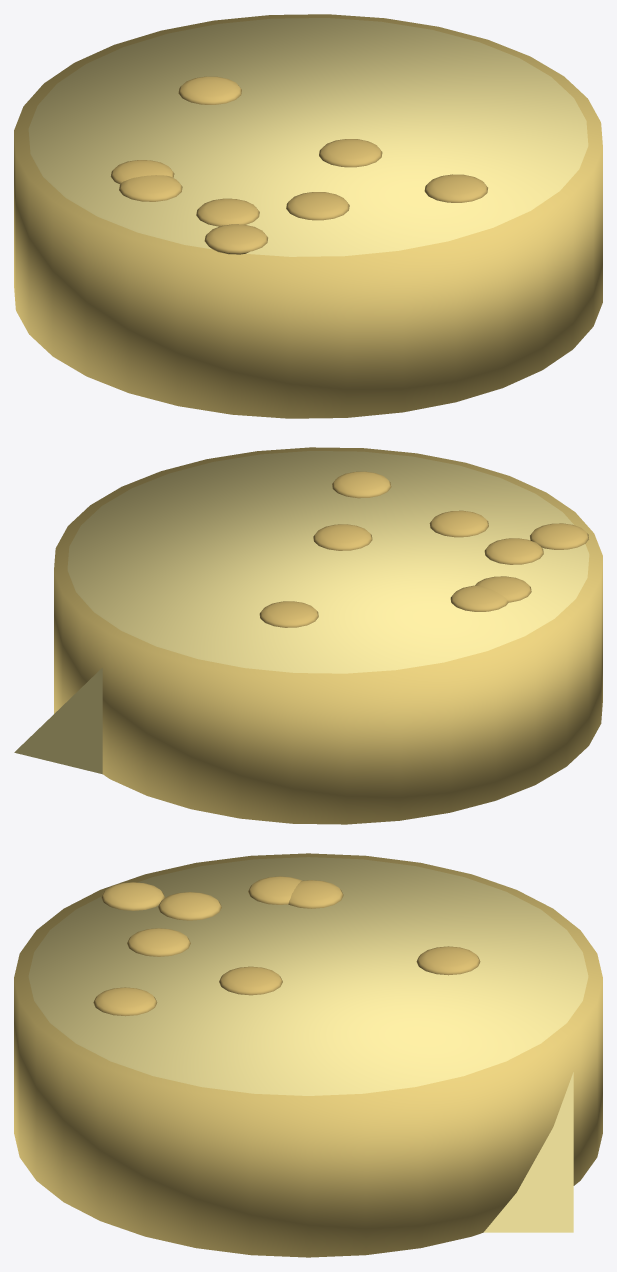
File: world_cheese_swiss.glb
3 renders of one model, top to bottom at view 1: azimuth 30°, elevation 25°; view 2: azimuth 150°, elevation 25°; view 3: azimuth 270°, elevation 25°, orthographic. The views are drawn at different scales.
Visible parts, largest first — view 1: world_cheese_swiss; view 2: world_cheese_swiss; view 3: world_cheese_swiss.
Part boxes in pixels (bbox=[...]): world_cheese_swiss: bbox=[14, 14, 602, 418]; world_cheese_swiss: bbox=[14, 447, 602, 824]; world_cheese_swiss: bbox=[14, 853, 602, 1257].
Bounding box in the file's own units: 1.1 × 0.34 × 1.1.
